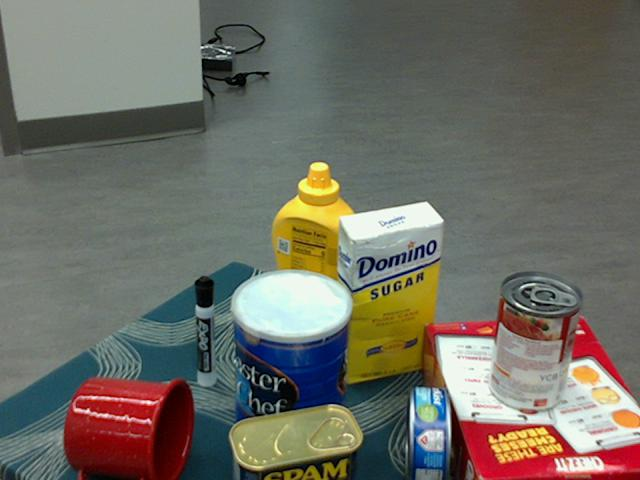cracker_box: (418, 318, 639, 479)
large_marker: (194, 275, 213, 386)
master_chef_can: (232, 270, 353, 466)
mug: (62, 376, 193, 479)
mustard_bottle: (270, 162, 362, 345)
potted_meat_can: (228, 404, 362, 479)
sugar_box: (332, 203, 444, 385)
tomato_soup_can: (486, 273, 581, 413)
tuna_fish_can: (407, 387, 450, 479)
